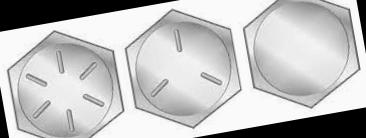hexagonal: (119, 0, 246, 137), (1, 20, 130, 138), (237, 0, 365, 116)
